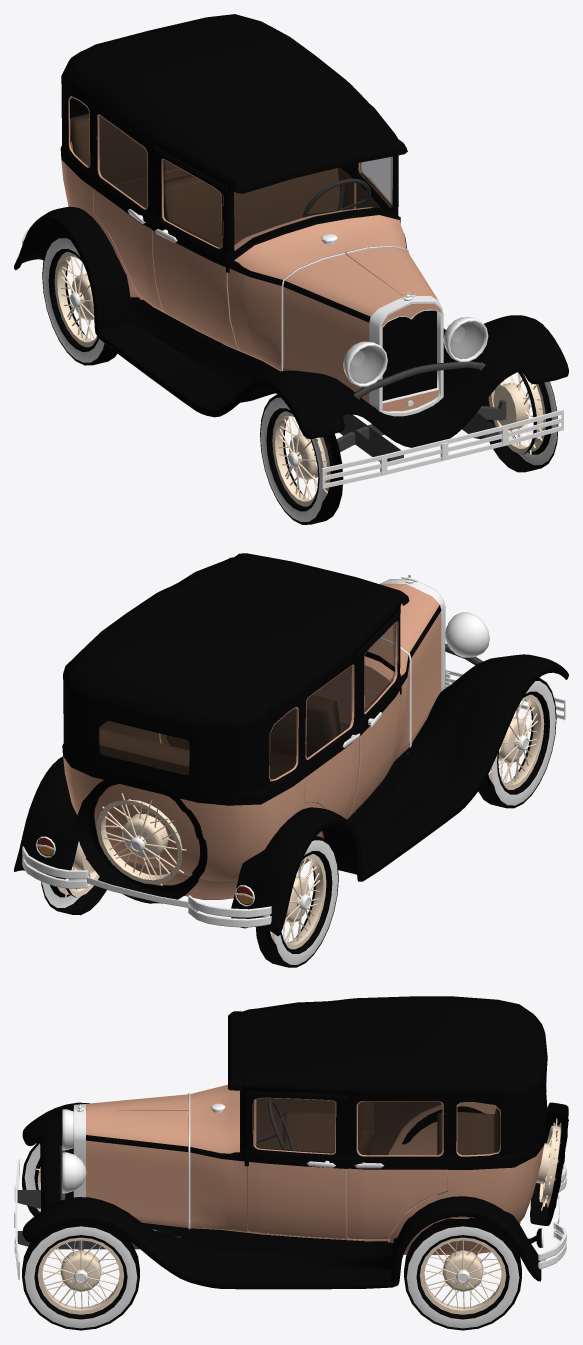
The model's file is Ford.fbx.
3 views of the same model, one above another, from view 1: azimuth 30°, elevation 25°; view 2: azimuth 150°, elevation 25°; view 3: azimuth 270°, elevation 25° (orthographic). The views are drawn at different scales.
Visible parts, largest first — view 1: Cube.009, Cube.010, Cube.001, Cube.002, Cube.014, Circle.003, Circle.004, Circle.002, Cube.008, Cube.007, Cube.012, Cube.004 (+4 smaller); view 2: Cube.009, Cube.010, Cube.002, Cube.001, Circle.003, Circle.004, Circle.005, Circle.006, Cube.013, Cube.014, Cube.007, Cube (+4 smaller); view 3: Cube.009, Cube.010, Cube.005, Cube.006, Circle.001, Circle.002, Cube.014, Cube.007, Cube.002, Cube.001, Circle.006, Cube.012 (+7 smaller).
Part boxes in pixels (<box>): Cube.009: <box>60,14,443,416</box>; Cube.010: <box>14,206,568,447</box>; Cube.001: <box>152,146,239,350</box>; Cube.002: <box>93,104,163,311</box>; Cube.014: <box>163,168,340,247</box>; Circle.003: <box>260,394,343,524</box>; Circle.004: <box>42,233,117,365</box>; Circle.002: <box>482,372,558,472</box>; Cube.008: <box>321,409,563,488</box>; Cube.007: <box>70,113,189,207</box>; Cube.012: <box>343,317,488,386</box>; Cube.004: <box>229,138,407,193</box>; Cube.009: <box>62,556,445,899</box>; Cube.010: <box>14,654,568,935</box>; Cube.002: <box>303,652,360,819</box>; Cube.001: <box>348,609,400,818</box>; Circle.003: <box>478,678,556,808</box>; Circle.004: <box>256,836,338,967</box>; Circle.005: <box>96,793,186,885</box>; Circle.006: <box>76,774,207,903</box>; Cube.013: <box>22,846,271,927</box>; Cube.014: <box>166,695,349,779</box>; Cube.007: <box>99,728,189,775</box>; Cube: <box>313,656,394,724</box>; Cube.009: <box>73,996,547,1254</box>; Cube.010: <box>22,1102,543,1289</box>; Cube.005: <box>247,1090,347,1238</box>; Cube.006: <box>347,1095,448,1239</box>; Circle.001: <box>404,1217,521,1330</box>; Circle.002: <box>22,1222,139,1330</box>; Cube.014: <box>283,1102,375,1155</box>; Cube.007: <box>437,1108,499,1195</box>; Cube.002: <box>370,1102,441,1155</box>; Cube.001: <box>256,1098,335,1150</box>; Circle.006: <box>530,1102,568,1225</box>; Cube.012: <box>62,1109,86,1193</box>.
Size of the model in its own units: 229 by 233 by 474.
